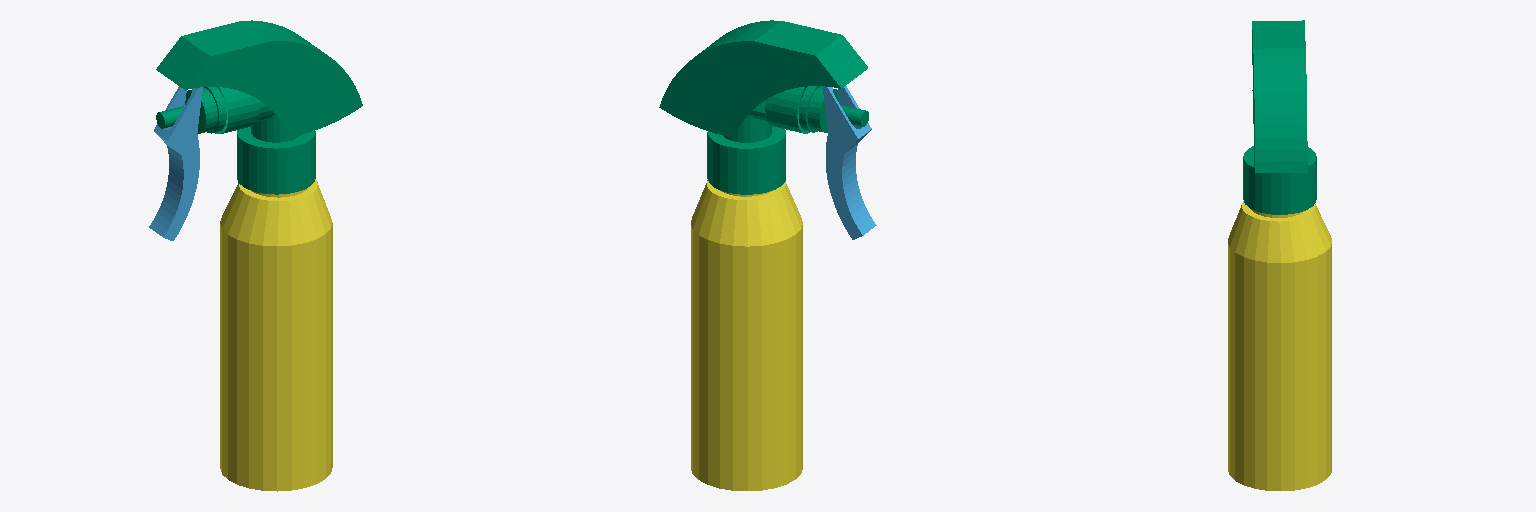
robot.urdf — partnet_a7732257-2737-4c45-aaa2-b2c8a65c5fe8:
<?xml version="1.0" ?>
<robot name="partnet_a7732257-2737-4c45-aaa2-b2c8a65c5fe8">
	<link name="base"/>
	<link name="link_0">
		<visual name="handle-1">
			<origin xyz="-0.05307537776678295 -0.4973957113119832 -0.31956767807669373"/>
			<geometry>
				<mesh filename="textured_objs/original-3.obj"/>
			</geometry>
		</visual>
		<collision>
			<origin xyz="-0.05307537776678295 -0.4973957113119832 -0.31956767807669373"/>
			<geometry>
				<mesh filename="textured_objs/original-3.obj"/>
			</geometry>
		</collision>
	</link>
	<joint name="joint_0" type="revolute">
		<origin xyz="0.05663692670536441 0.4973957113119832 0.37409080481462603"/>
		<axis xyz="0.9998156523539538 -4.897941595025503e-07 -0.019200554882556953"/>
		<child link="link_0"/>
		<parent link="link_1"/>
		<limit lower="-0.0" upper="0.3490658503988659"/>
	</joint>
	<link name="link_1">
		<visual name="head-3">
			<origin xyz="0.0035615489385814603 0 0.05452312673793228"/>
			<geometry>
				<mesh filename="textured_objs/original-2.obj"/>
			</geometry>
		</visual>
		<visual name="head-3">
			<origin xyz="0.0035615489385814603 0 0.05452312673793228"/>
			<geometry>
				<mesh filename="textured_objs/original-15.obj"/>
			</geometry>
		</visual>
		<visual name="head-3">
			<origin xyz="0.0035615489385814603 0 0.05452312673793228"/>
			<geometry>
				<mesh filename="textured_objs/original-14.obj"/>
			</geometry>
		</visual>
		<visual name="head-3">
			<origin xyz="0.0035615489385814603 0 0.05452312673793228"/>
			<geometry>
				<mesh filename="textured_objs/original-16.obj"/>
			</geometry>
		</visual>
		<visual name="head-3">
			<origin xyz="0.0035615489385814603 0 0.05452312673793228"/>
			<geometry>
				<mesh filename="textured_objs/original-4.obj"/>
			</geometry>
		</visual>
		<visual name="head-3">
			<origin xyz="0.0035615489385814603 0 0.05452312673793228"/>
			<geometry>
				<mesh filename="textured_objs/original-1.obj"/>
			</geometry>
		</visual>
		<visual name="head-3">
			<origin xyz="0.0035615489385814603 0 0.05452312673793228"/>
			<geometry>
				<mesh filename="textured_objs/original-13.obj"/>
			</geometry>
		</visual>
		<visual name="head-3">
			<origin xyz="0.0035615489385814603 0 0.05452312673793228"/>
			<geometry>
				<mesh filename="textured_objs/original-10.obj"/>
			</geometry>
		</visual>
		<visual name="head-3">
			<origin xyz="0.0035615489385814603 0 0.05452312673793228"/>
			<geometry>
				<mesh filename="textured_objs/original-9.obj"/>
			</geometry>
		</visual>
		<visual name="head-3">
			<origin xyz="0.0035615489385814603 0 0.05452312673793228"/>
			<geometry>
				<mesh filename="textured_objs/original-11.obj"/>
			</geometry>
		</visual>
		<visual name="head-3">
			<origin xyz="0.0035615489385814603 0 0.05452312673793228"/>
			<geometry>
				<mesh filename="textured_objs/original-8.obj"/>
			</geometry>
		</visual>
		<visual name="head-3">
			<origin xyz="0.0035615489385814603 0 0.05452312673793228"/>
			<geometry>
				<mesh filename="textured_objs/original-12.obj"/>
			</geometry>
		</visual>
		<collision>
			<origin xyz="0.0035615489385814603 0 0.05452312673793228"/>
			<geometry>
				<mesh filename="textured_objs/original-2.obj"/>
			</geometry>
		</collision>
		<collision>
			<origin xyz="0.0035615489385814603 0 0.05452312673793228"/>
			<geometry>
				<mesh filename="textured_objs/original-15.obj"/>
			</geometry>
		</collision>
		<collision>
			<origin xyz="0.0035615489385814603 0 0.05452312673793228"/>
			<geometry>
				<mesh filename="textured_objs/original-14.obj"/>
			</geometry>
		</collision>
		<collision>
			<origin xyz="0.0035615489385814603 0 0.05452312673793228"/>
			<geometry>
				<mesh filename="textured_objs/original-16.obj"/>
			</geometry>
		</collision>
		<collision>
			<origin xyz="0.0035615489385814603 0 0.05452312673793228"/>
			<geometry>
				<mesh filename="textured_objs/original-4.obj"/>
			</geometry>
		</collision>
		<collision>
			<origin xyz="0.0035615489385814603 0 0.05452312673793228"/>
			<geometry>
				<mesh filename="textured_objs/original-1.obj"/>
			</geometry>
		</collision>
		<collision>
			<origin xyz="0.0035615489385814603 0 0.05452312673793228"/>
			<geometry>
				<mesh filename="textured_objs/original-13.obj"/>
			</geometry>
		</collision>
		<collision>
			<origin xyz="0.0035615489385814603 0 0.05452312673793228"/>
			<geometry>
				<mesh filename="textured_objs/original-10.obj"/>
			</geometry>
		</collision>
		<collision>
			<origin xyz="0.0035615489385814603 0 0.05452312673793228"/>
			<geometry>
				<mesh filename="textured_objs/original-9.obj"/>
			</geometry>
		</collision>
		<collision>
			<origin xyz="0.0035615489385814603 0 0.05452312673793228"/>
			<geometry>
				<mesh filename="textured_objs/original-11.obj"/>
			</geometry>
		</collision>
		<collision>
			<origin xyz="0.0035615489385814603 0 0.05452312673793228"/>
			<geometry>
				<mesh filename="textured_objs/original-8.obj"/>
			</geometry>
		</collision>
		<collision>
			<origin xyz="0.0035615489385814603 0 0.05452312673793228"/>
			<geometry>
				<mesh filename="textured_objs/original-12.obj"/>
			</geometry>
		</collision>
	</link>
	<joint name="joint_1" type="continuous">
		<origin xyz="0.0 0 0.0"/>
		<axis xyz="0 -1 0"/>
		<child link="link_1"/>
		<parent link="link_1_helper"/>
	</joint>
	<link name="link_2">
		<visual name="base_body-4">
			<origin xyz="0 0 0"/>
			<geometry>
				<mesh filename="textured_objs/original-5.obj"/>
			</geometry>
		</visual>
		<visual name="base_body-4">
			<origin xyz="0 0 0"/>
			<geometry>
				<mesh filename="textured_objs/original-6.obj"/>
			</geometry>
		</visual>
		<visual name="base_body-4">
			<origin xyz="0 0 0"/>
			<geometry>
				<mesh filename="textured_objs/original-7.obj"/>
			</geometry>
		</visual>
		<collision>
			<origin xyz="0 0 0"/>
			<geometry>
				<mesh filename="textured_objs/original-5.obj"/>
			</geometry>
		</collision>
		<collision>
			<origin xyz="0 0 0"/>
			<geometry>
				<mesh filename="textured_objs/original-6.obj"/>
			</geometry>
		</collision>
		<collision>
			<origin xyz="0 0 0"/>
			<geometry>
				<mesh filename="textured_objs/original-7.obj"/>
			</geometry>
		</collision>
	</link>
	<joint name="joint_2" type="fixed">
		<origin rpy="1.570796326794897 0 -1.570796326794897" xyz="0 0 0"/>
		<child link="link_2"/>
		<parent link="base"/>
	</joint>
	<link name="link_1_helper"/>
	<joint name="joint_3" type="prismatic">
		<origin xyz="-0.0035615489385814603 0 -0.05452312673793228"/>
		<axis xyz="0 1 0"/>
		<child link="link_1_helper"/>
		<parent link="link_2"/>
		<limit lower="0" upper="0.15"/>
	</joint>
</robot>

--- Facts derived from the render (not from the file) ---
The picture shows the robot from 3 angles, left to right: view 1: azimuth 30°, elevation 25°; view 2: azimuth 150°, elevation 25°; view 3: azimuth 270°, elevation 25°; orthographic projection.
Model partnet_a7732257-2737-4c45-aaa2-b2c8a65c5fe8 with 5 links and 4 joints (1 revolute, 1 continuous, 1 prismatic, 1 fixed), rooted at base, posed every joint at zero.
Links seen in each view (by area): view 1: link_2, link_1, link_0; view 2: link_2, link_1, link_0; view 3: link_2, link_1.
Link boxes in pixels (<box>): link_2: <box>220,179,332,491</box>; link_1: <box>156,20,362,194</box>; link_0: <box>149,86,202,240</box>; link_2: <box>691,180,802,490</box>; link_1: <box>659,20,868,194</box>; link_0: <box>823,86,876,239</box>; link_2: <box>1228,201,1331,490</box>; link_1: <box>1243,20,1316,214</box>.
Size in the robot's own frame: 0.7929 by 0.3955 by 1.71 metres.
Meshes: 16 distinct files referenced, 16 mesh visuals loaded (16 OBJ).